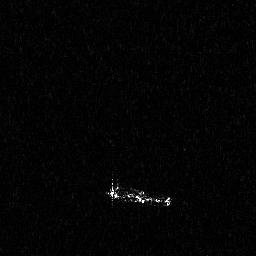ship: (104, 177, 174, 211)
